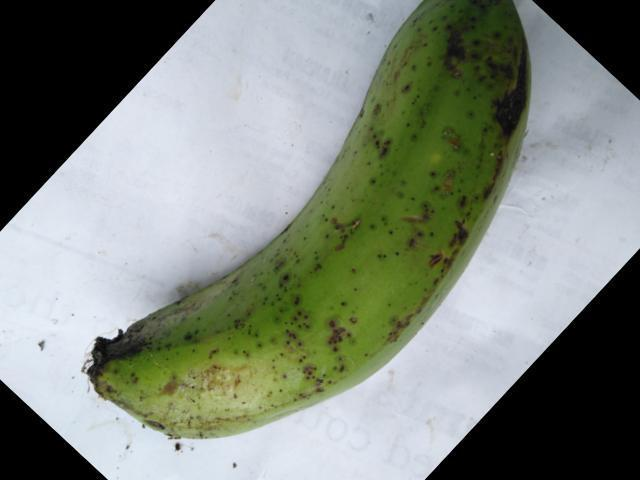unripe: (75, 0, 545, 446)
